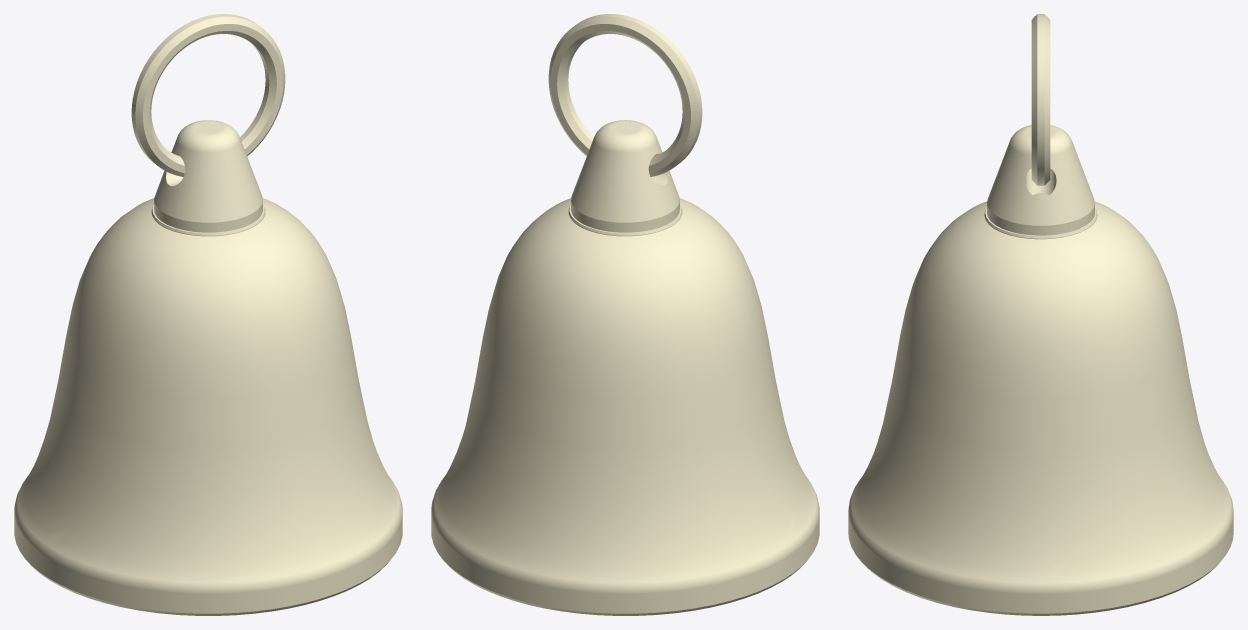
Rendered from 998_bell.glb.
3 renders of one model, left to right at view 1: azimuth 30°, elevation 25°; view 2: azimuth 150°, elevation 25°; view 3: azimuth 270°, elevation 25°, orthographic.
Parts seen in each view (by area): view 1: Body, ring; view 2: Body, ring; view 3: Body, ring.
Boxes of the visible parts, bbox=[...] form: Body: bbox=[14, 120, 402, 615]; ring: bbox=[131, 14, 285, 176]; Body: bbox=[431, 120, 819, 615]; ring: bbox=[548, 14, 702, 176]; Body: bbox=[848, 125, 1233, 615]; ring: bbox=[1031, 14, 1050, 185].
Bounding box in the file's own units: 0.0419 × 0.065 × 0.0419.
